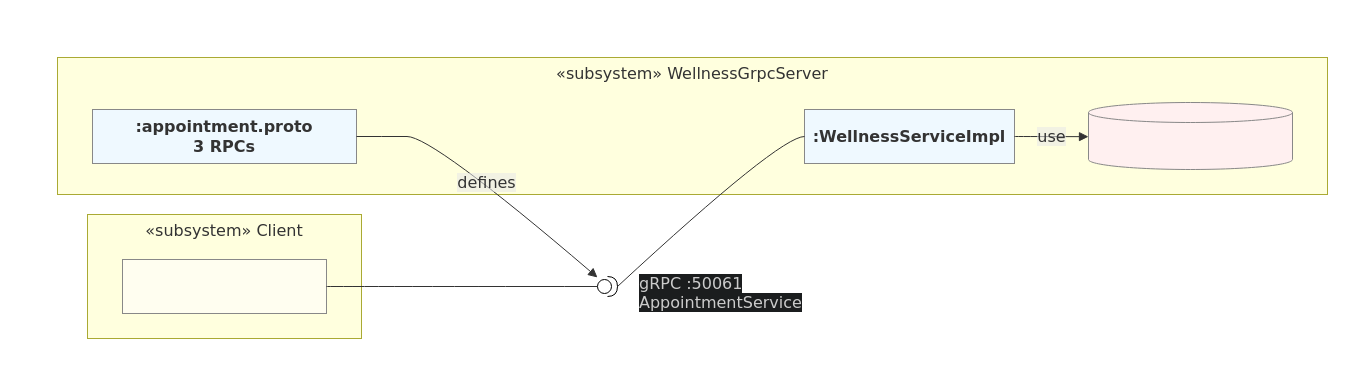
Some shapes in this 1345 by 373 pixel diagram are drawn without their labels. The shapes that lost their labels are listed below. From the top down, each one's centre as x and y in pixels, then its label:
the point at 1190,136: Appointments in memory
the point at 224,286: :WellnessGrpcClient
